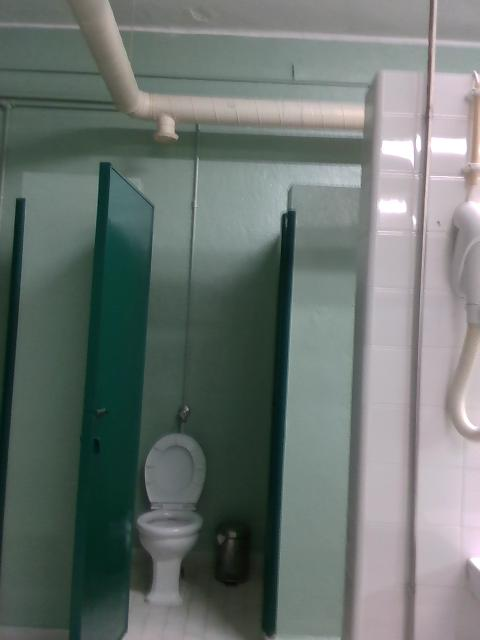open_door: (122, 176, 294, 638)
